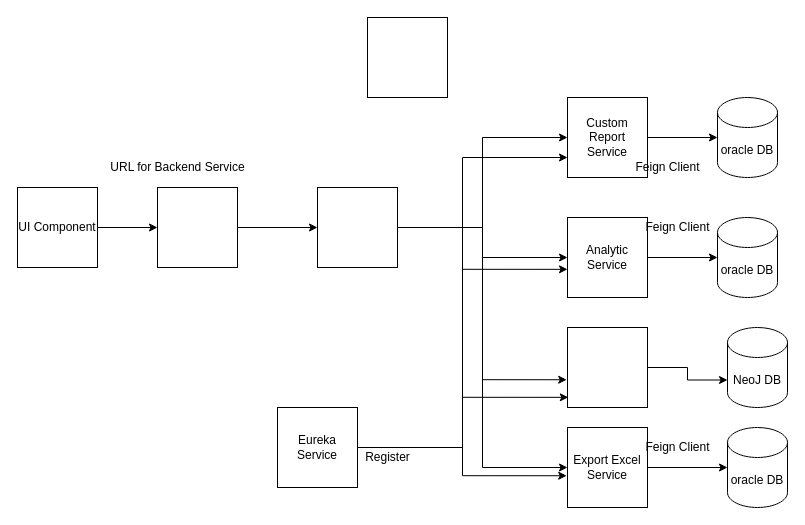
Image size: 805x525. Some labels were removed from this diagram. Each missing label, with the centre of its shape:
Authentication Service: (407,57)
Entitlement Service: (607,367)
NodeJs: (197,227)
Zuul API Gateway: (357,227)
